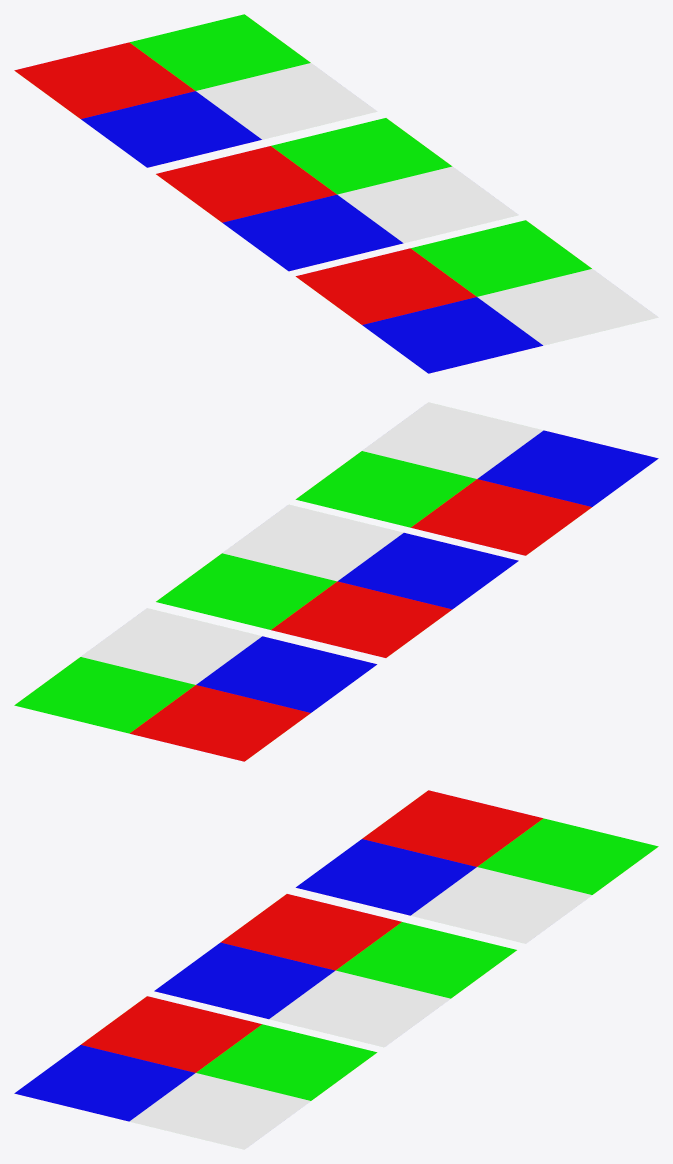
The model's file is extra.dae.
3 views of the same model, one above another, from view 1: azimuth 30°, elevation 25°; view 2: azimuth 150°, elevation 25°; view 3: azimuth 330°, elevation 25° (orthographic).
Parts seen in each view (by area): view 1: pPlane1, pPlane2, pPlane3; view 2: pPlane1, pPlane2, pPlane3; view 3: pPlane1, pPlane2, pPlane3.
Part boxes in pixels (left/top/right/bottom): pPlane1: left=295, top=220, right=658, bottom=373; pPlane2: left=156, top=118, right=518, bottom=271; pPlane3: left=14, top=14, right=377, bottom=167; pPlane1: left=295, top=402, right=658, bottom=555; pPlane2: left=156, top=504, right=518, bottom=657; pPlane3: left=14, top=608, right=377, bottom=761; pPlane1: left=14, top=996, right=377, bottom=1149; pPlane2: left=154, top=894, right=516, bottom=1047; pPlane3: left=295, top=790, right=658, bottom=943.
Bounding box in the file's own units: 1 × 0 × 3.11.
